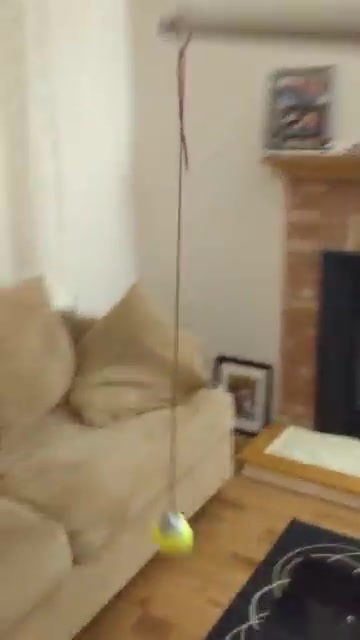tennis_ball: (153, 513, 195, 560)
